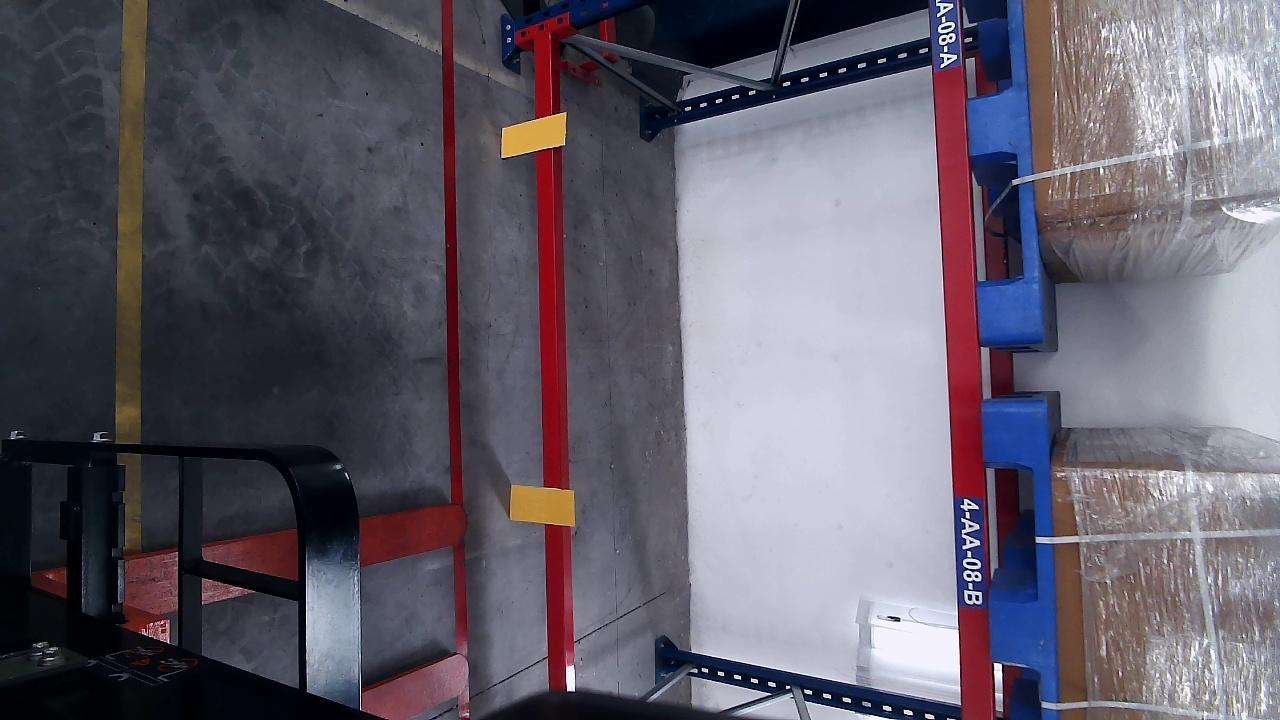h_rack: (931, 1, 998, 720), (529, 35, 568, 689)
orange_strip: (503, 482, 575, 525), (502, 111, 566, 158)
red_line: (440, 2, 472, 720)
small_pallet: (958, 0, 1045, 339), (982, 409, 1065, 718)
yellow_line: (113, 1, 147, 440)
